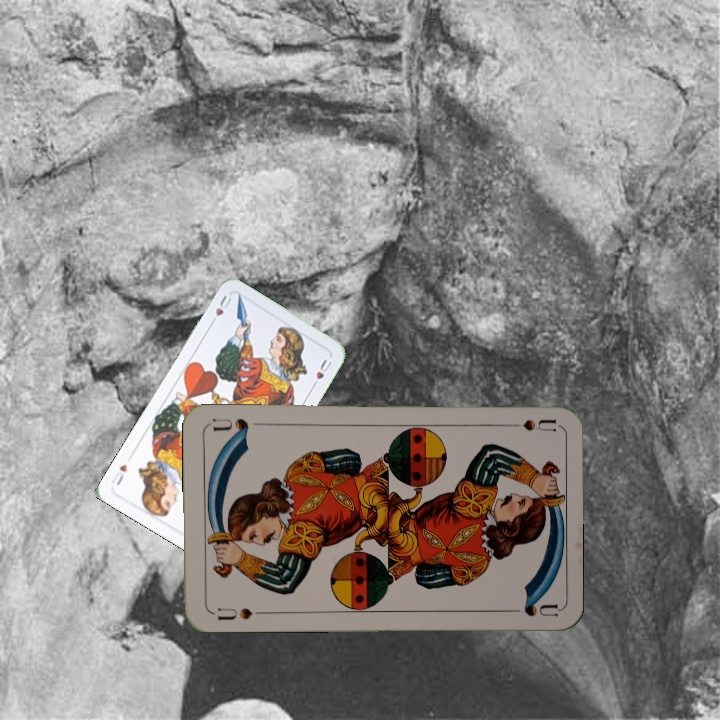HU: (206, 291, 234, 328)
SU: (497, 415, 556, 434), (214, 604, 267, 623)
